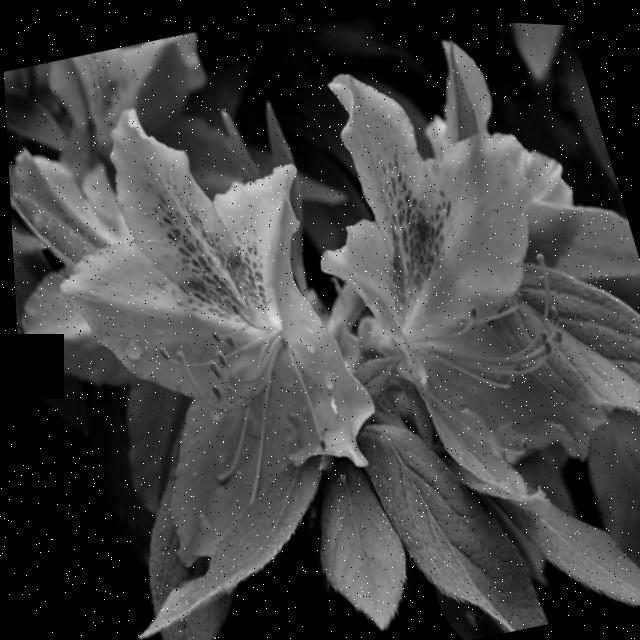azalea: (3, 77, 406, 596), (268, 36, 636, 526)
